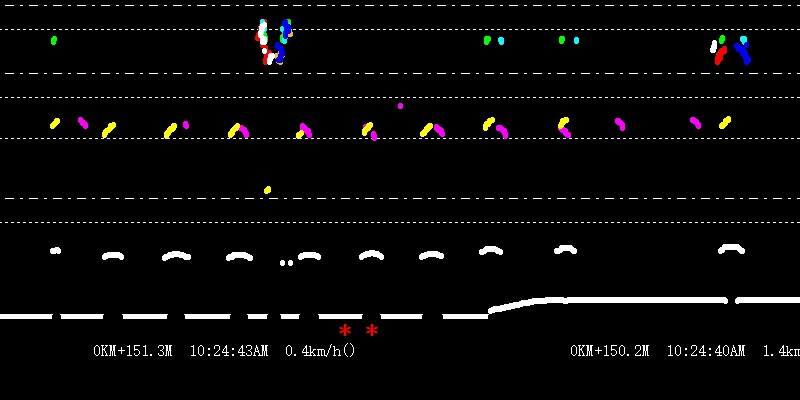J: (255, 7, 294, 67)
face_down: (47, 22, 59, 46)
star: (336, 320, 352, 340), (366, 321, 380, 339)
y_p: (98, 116, 452, 275)
